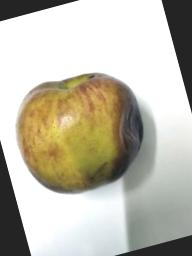Apple Overripe: (0, 30, 190, 240)
